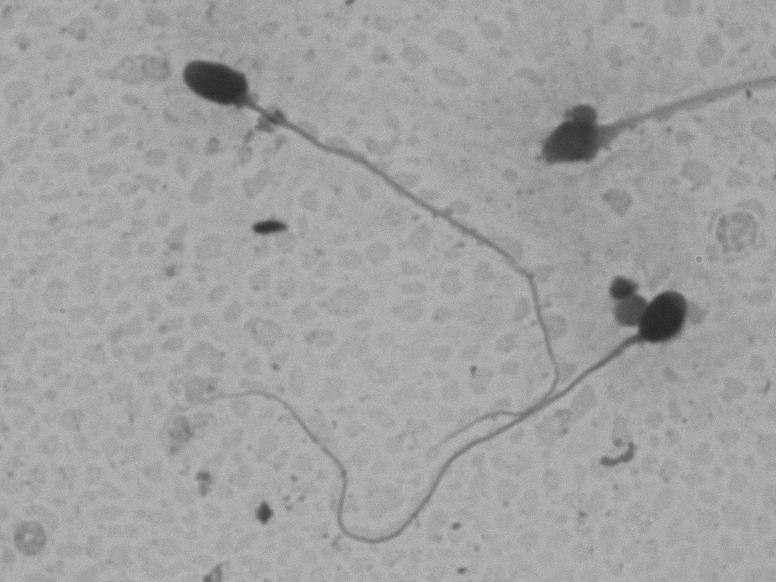Abnormal: (145, 41, 570, 457), (534, 45, 763, 189)
Normal: (146, 279, 695, 550)
